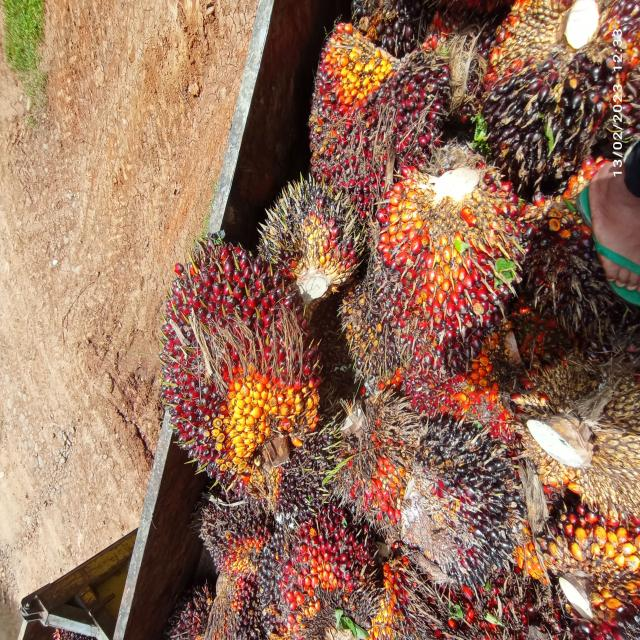fraksi 00: (486, 0, 640, 235), (393, 416, 534, 600), (259, 149, 363, 308), (263, 404, 350, 554), (183, 469, 281, 584), (330, 268, 408, 398)
fraksi 1: (306, 0, 448, 213)
fraksi 3: (138, 178, 338, 530), (352, 82, 534, 410), (281, 516, 375, 640)
fraksi 4: (332, 389, 421, 519)
